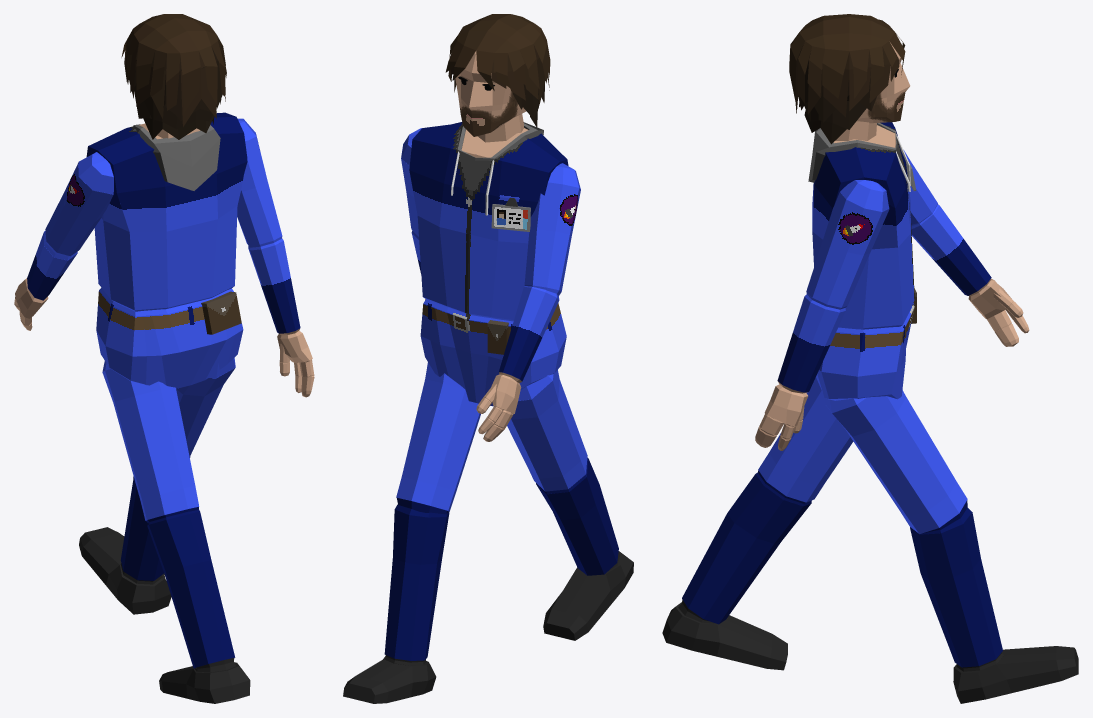
File: DreamLevelImage2Calihan.gltf
3 renders of one model, left to right at view 1: azimuth 30°, elevation 25°; view 2: azimuth 150°, elevation 25°; view 3: azimuth 270°, elevation 25°, orthographic. The views are drawn at different scales.
Visible parts, largest first — view 1: Torso, Hair, Pelvis, Left Upper Leg, Left Lower Leg, Right Foot, Hood, Left Upper Arm, Right Upper Arm, Right Lower Arm, Left Foot, Right Lower Leg (+5 smaller); view 2: Torso, Right Upper Leg, Pelvis, Right Lower Leg, Hair, Left Upper Leg, Left Lower Leg, Left Upper Arm, Left Foot, Head, Right Foot, Left Lower Arm (+7 smaller); view 3: Torso, Hair, Right Upper Leg, Left Lower Leg, Right Lower Leg, Pelvis, Left Upper Leg, Right Upper Arm, Right Foot, Left Foot, Right Lower Arm, Left Lower Arm (+5 smaller).
Boxes of the visible parts, box(x1,y1,x2,y2) form: Torso: box(86, 112, 247, 311); Hair: box(121, 14, 226, 139); Pelvis: box(96, 288, 243, 388); Left Upper Leg: box(102, 369, 199, 520); Left Lower Leg: box(147, 511, 235, 668); Right Foot: box(79, 527, 171, 614); Hood: box(133, 124, 220, 190); Left Upper Arm: box(45, 161, 113, 256); Right Upper Arm: box(237, 134, 282, 245); Right Lower Arm: box(248, 238, 300, 333); Left Foot: box(159, 662, 250, 703); Right Lower Leg: box(120, 457, 190, 580); Torso: box(409, 122, 568, 321); Right Upper Leg: box(396, 362, 480, 511); Pelvis: box(420, 299, 566, 406); Right Lower Leg: box(384, 509, 449, 660); Hair: box(445, 14, 550, 127); Left Upper Leg: box(507, 370, 587, 491); Left Lower Leg: box(536, 458, 618, 575); Left Upper Arm: box(524, 182, 580, 291); Left Foot: box(543, 551, 633, 640); Head: box(455, 51, 525, 136); Right Foot: box(343, 656, 436, 703); Left Lower Arm: box(499, 286, 559, 381); Torso: box(812, 122, 914, 329); Hair: box(789, 14, 905, 144); Right Upper Leg: box(826, 390, 967, 533); Left Lower Leg: box(682, 474, 811, 624); Right Lower Leg: box(910, 512, 1002, 667); Pelvis: box(816, 303, 914, 400); Left Upper Leg: box(758, 377, 853, 502); Right Upper Arm: box(806, 192, 889, 307); Right Foot: box(953, 646, 1078, 703); Left Foot: box(662, 602, 787, 670); Right Lower Arm: box(777, 296, 845, 392); Left Lower Arm: box(911, 205, 991, 295).
Size of the model in its own units: 0.2822 by 0.882 by 0.5012.
11 materials, 11 textured.
